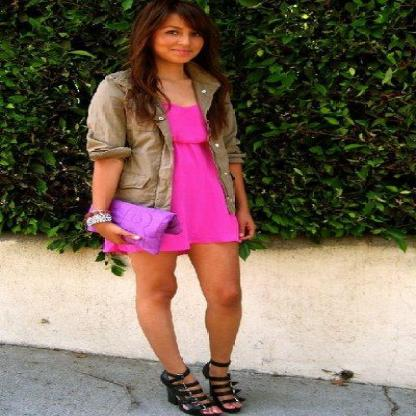bag: (114, 201, 180, 254)
dress: (162, 104, 236, 250)
jacket: (83, 61, 247, 224)
shoe: (160, 368, 244, 416)
